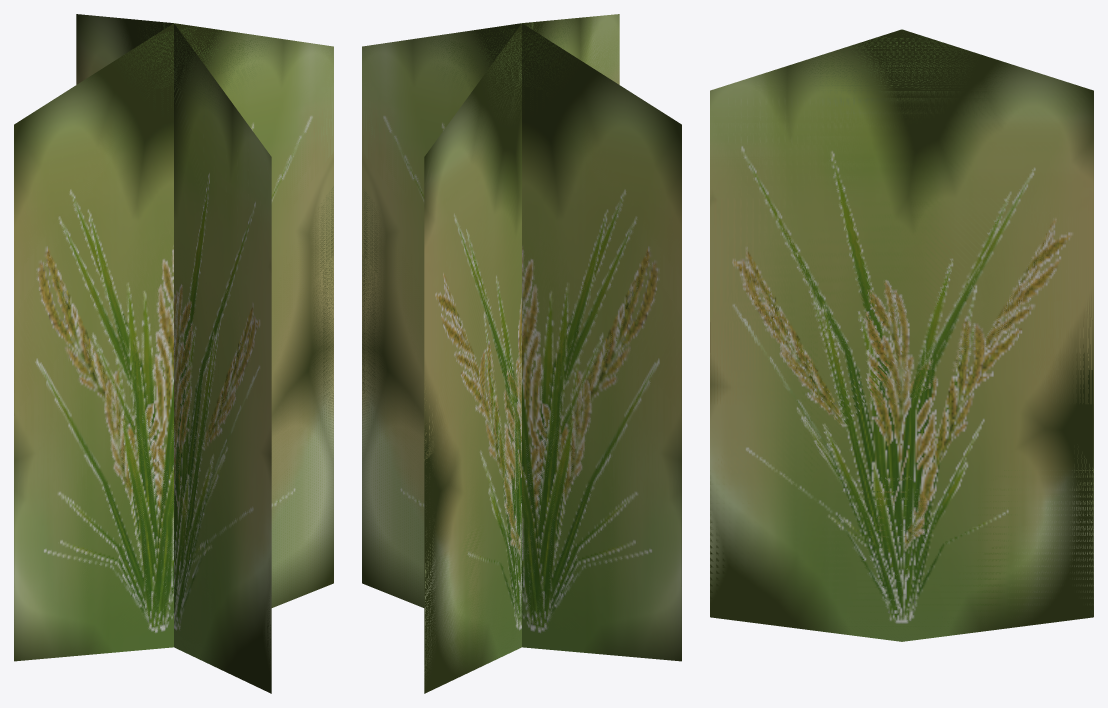
The model's file is Reworked RicePlant_LOD5.fbx.
3 renders of one model, left to right at view 1: azimuth 30°, elevation 25°; view 2: azimuth 150°, elevation 25°; view 3: azimuth 270°, elevation 25°, orthographic.
Parts seen in each view (by area): view 1: Reworked RicePlant Imposter_0; view 2: Reworked RicePlant Imposter_0; view 3: Reworked RicePlant Imposter_0.
Part boxes in pixels (x1,y1,x2,y2): Reworked RicePlant Imposter_0: (14,14,333,693); Reworked RicePlant Imposter_0: (362,14,681,693); Reworked RicePlant Imposter_0: (710,29,1093,641).
Size of the model in its own units: 81.1 by 151 by 85.87.
Materials: 1 (1 with a texture image).
